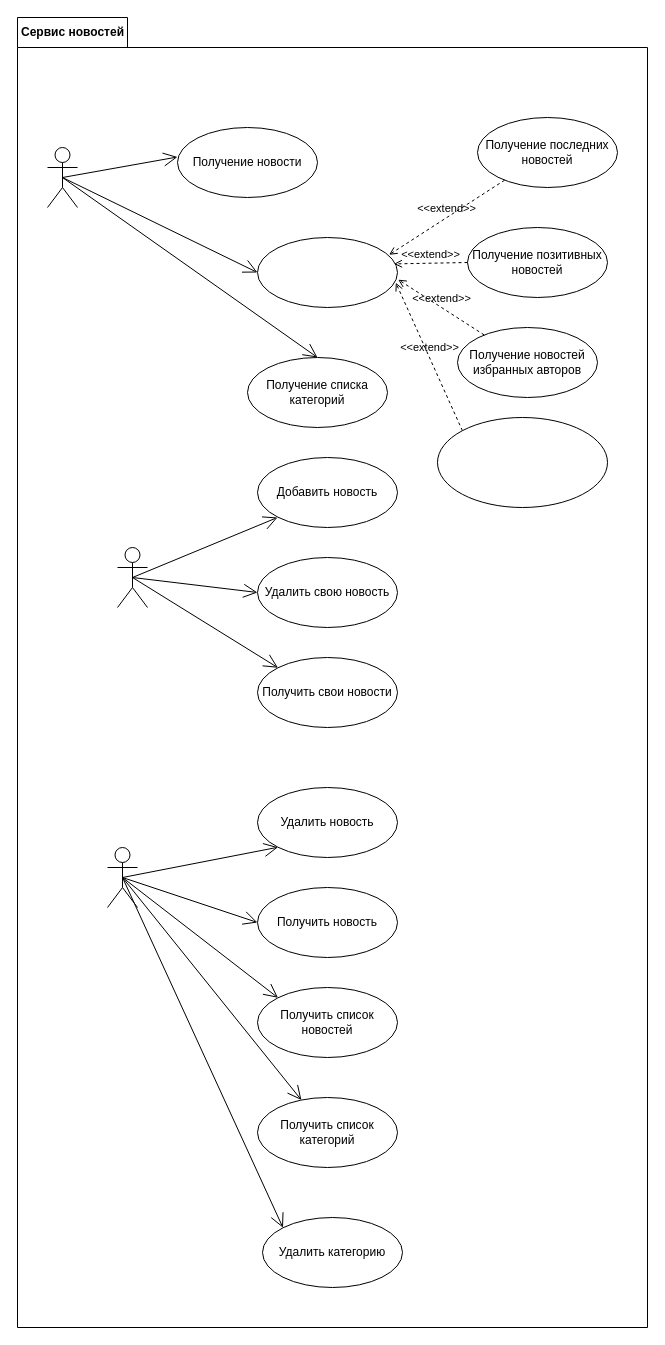
Some shapes in this 665 by 1345 pixel diagram are drawn without their labels. Each missing label, with the box of its shape:
Автор: (116, 546, 148, 608)
Администратор: (106, 846, 138, 908)
Получение списка новостей: (256, 236, 398, 308)
Получение списка новостей из определённой категории: (436, 416, 608, 508)
Читатель: (46, 146, 78, 208)
